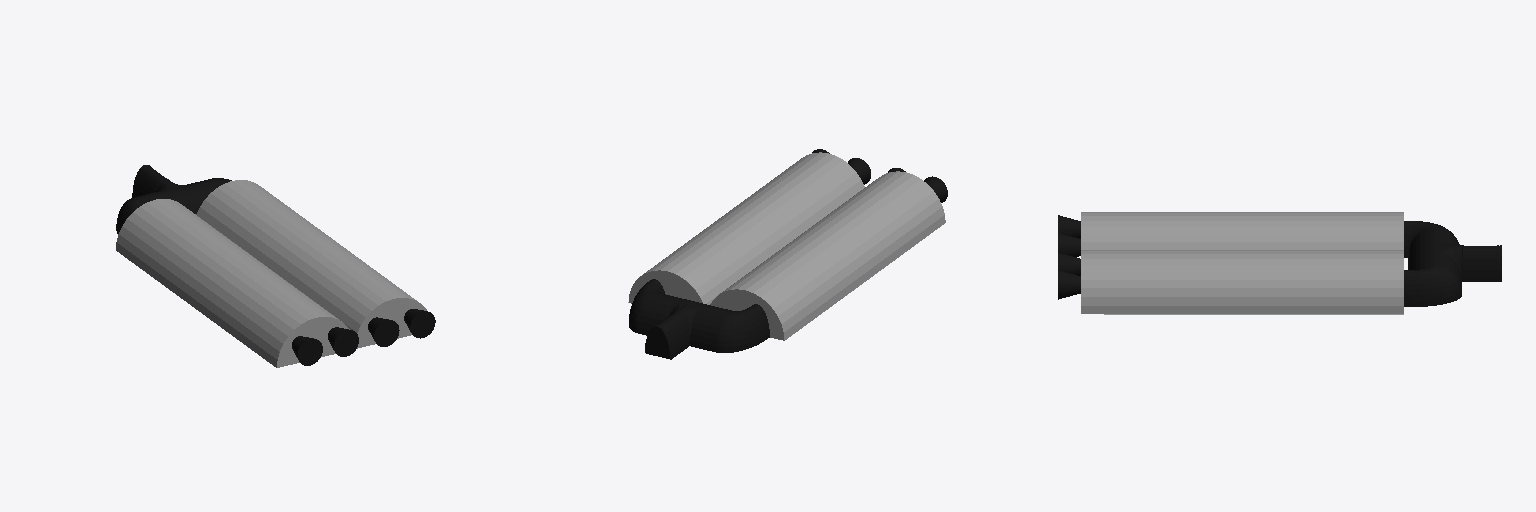
Rendered from open_rocket.obj.
The picture shows the model from 3 angles: view 1: azimuth 30°, elevation 25°; view 2: azimuth 150°, elevation 25°; view 3: azimuth 270°, elevation 25°; orthographic projection.
Visible parts, largest first — view 1: Paint, OpenRocket; view 2: Paint, OpenRocket; view 3: Paint, OpenRocket.
Boxes of the visible parts, x1,y1,x2,y2 form: Paint: [116, 180, 426, 367]; OpenRocket: [116, 165, 435, 365]; Paint: [628, 152, 945, 340]; OpenRocket: [629, 149, 947, 359]; Paint: [1081, 212, 1403, 314]; OpenRocket: [1058, 215, 1501, 306].
Size of the model in its own units: 3.94 by 0.9853 by 9.64.